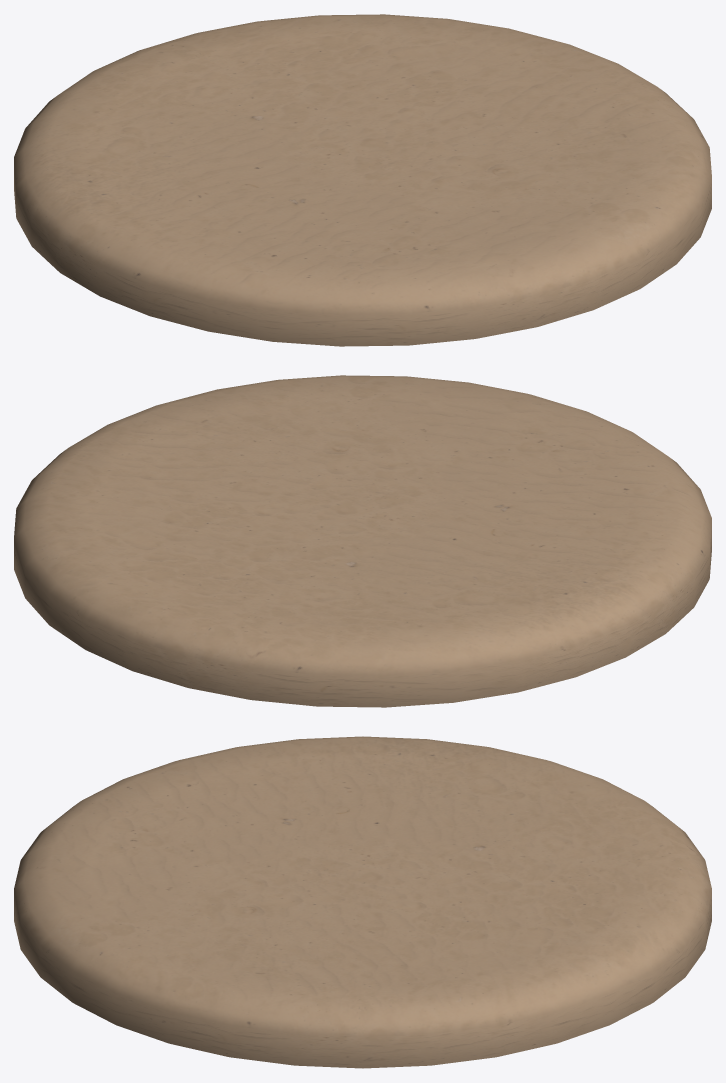
3 views of the same model, one above another, from view 1: azimuth 30°, elevation 25°; view 2: azimuth 150°, elevation 25°; view 3: azimuth 270°, elevation 25° (orthographic).
Visible parts, largest first — view 1: Base; view 2: Base; view 3: Base.
Part boxes in pixels (<box>): Base: <box>14,14,711,346</box>; Base: <box>14,375,711,707</box>; Base: <box>14,736,711,1068</box>.
Size of the model in its own units: 26.96 by 2.12 by 26.96.
1 material, 1 textured.
